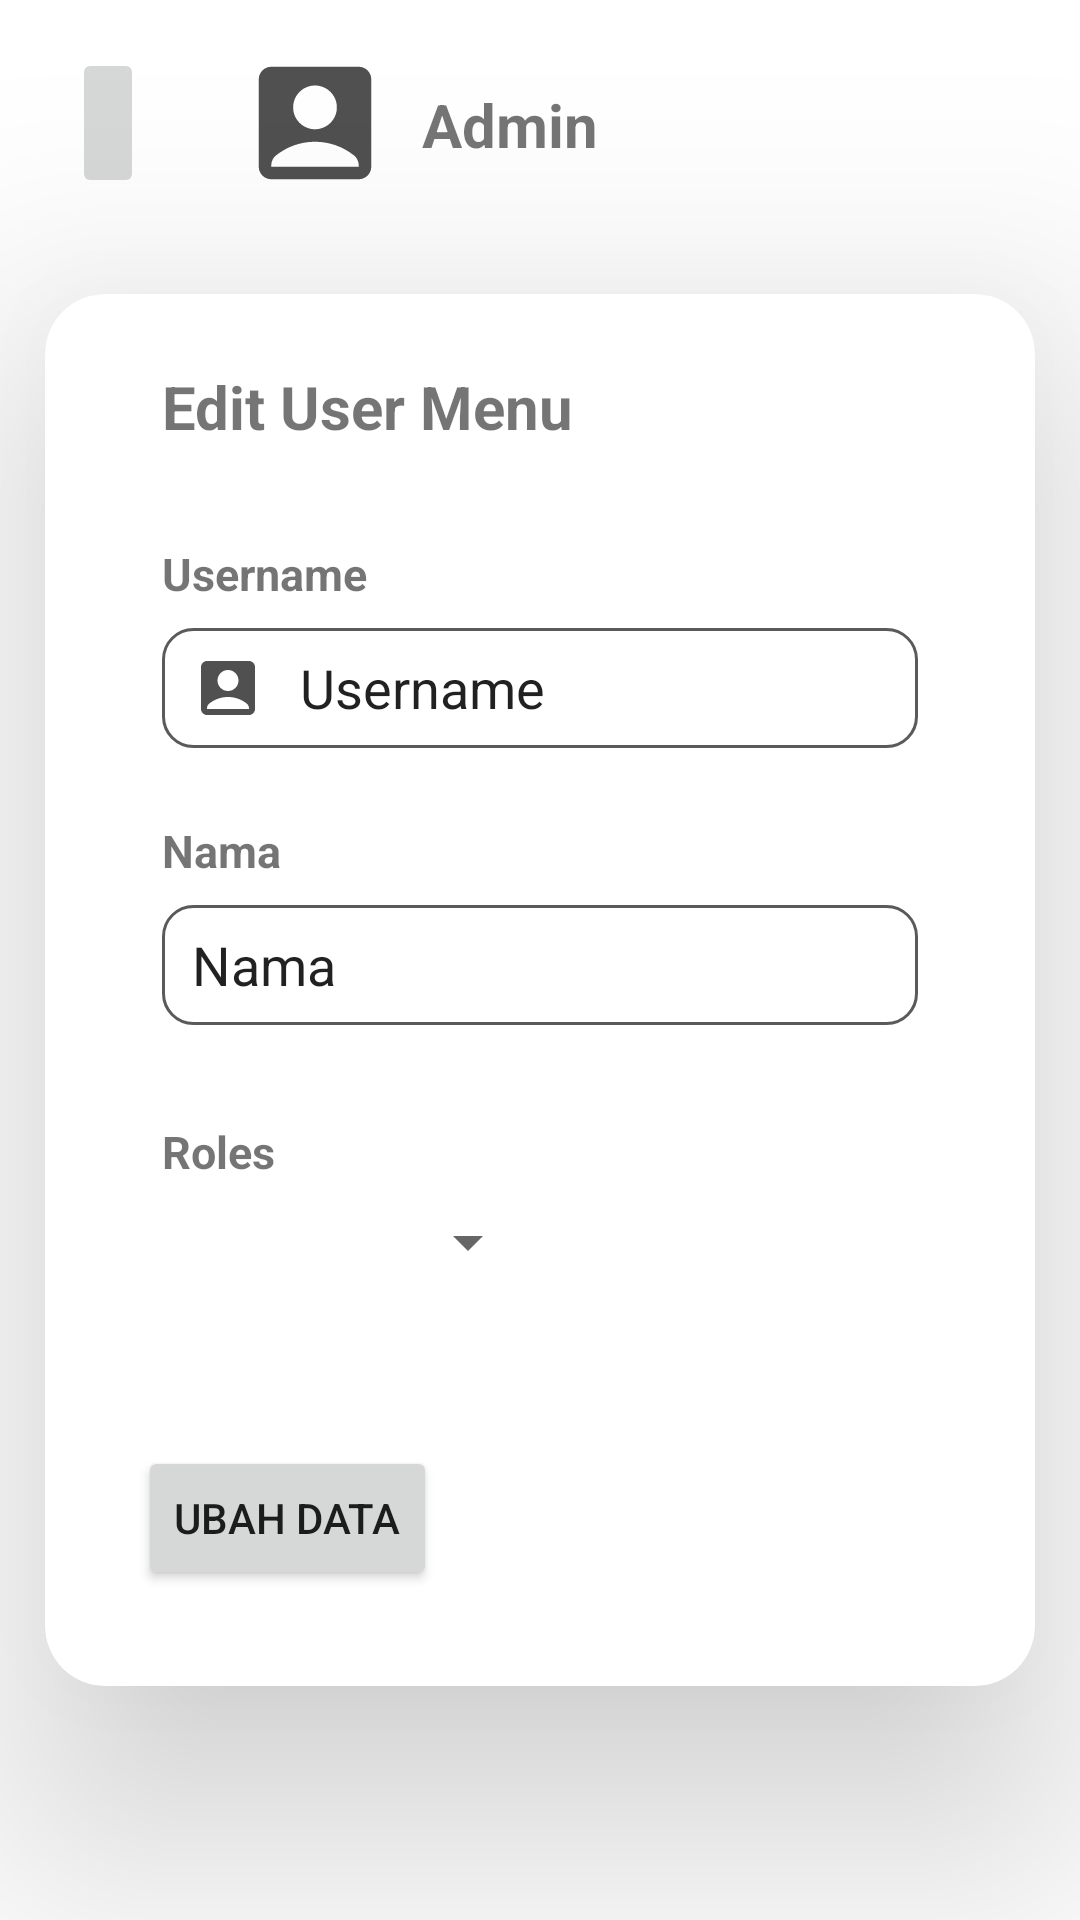

Named icons in this screenshot (1080 x 1920) and their bounding boxes, (x1, y1, x2, y2):
account box: (258, 66, 372, 180)
